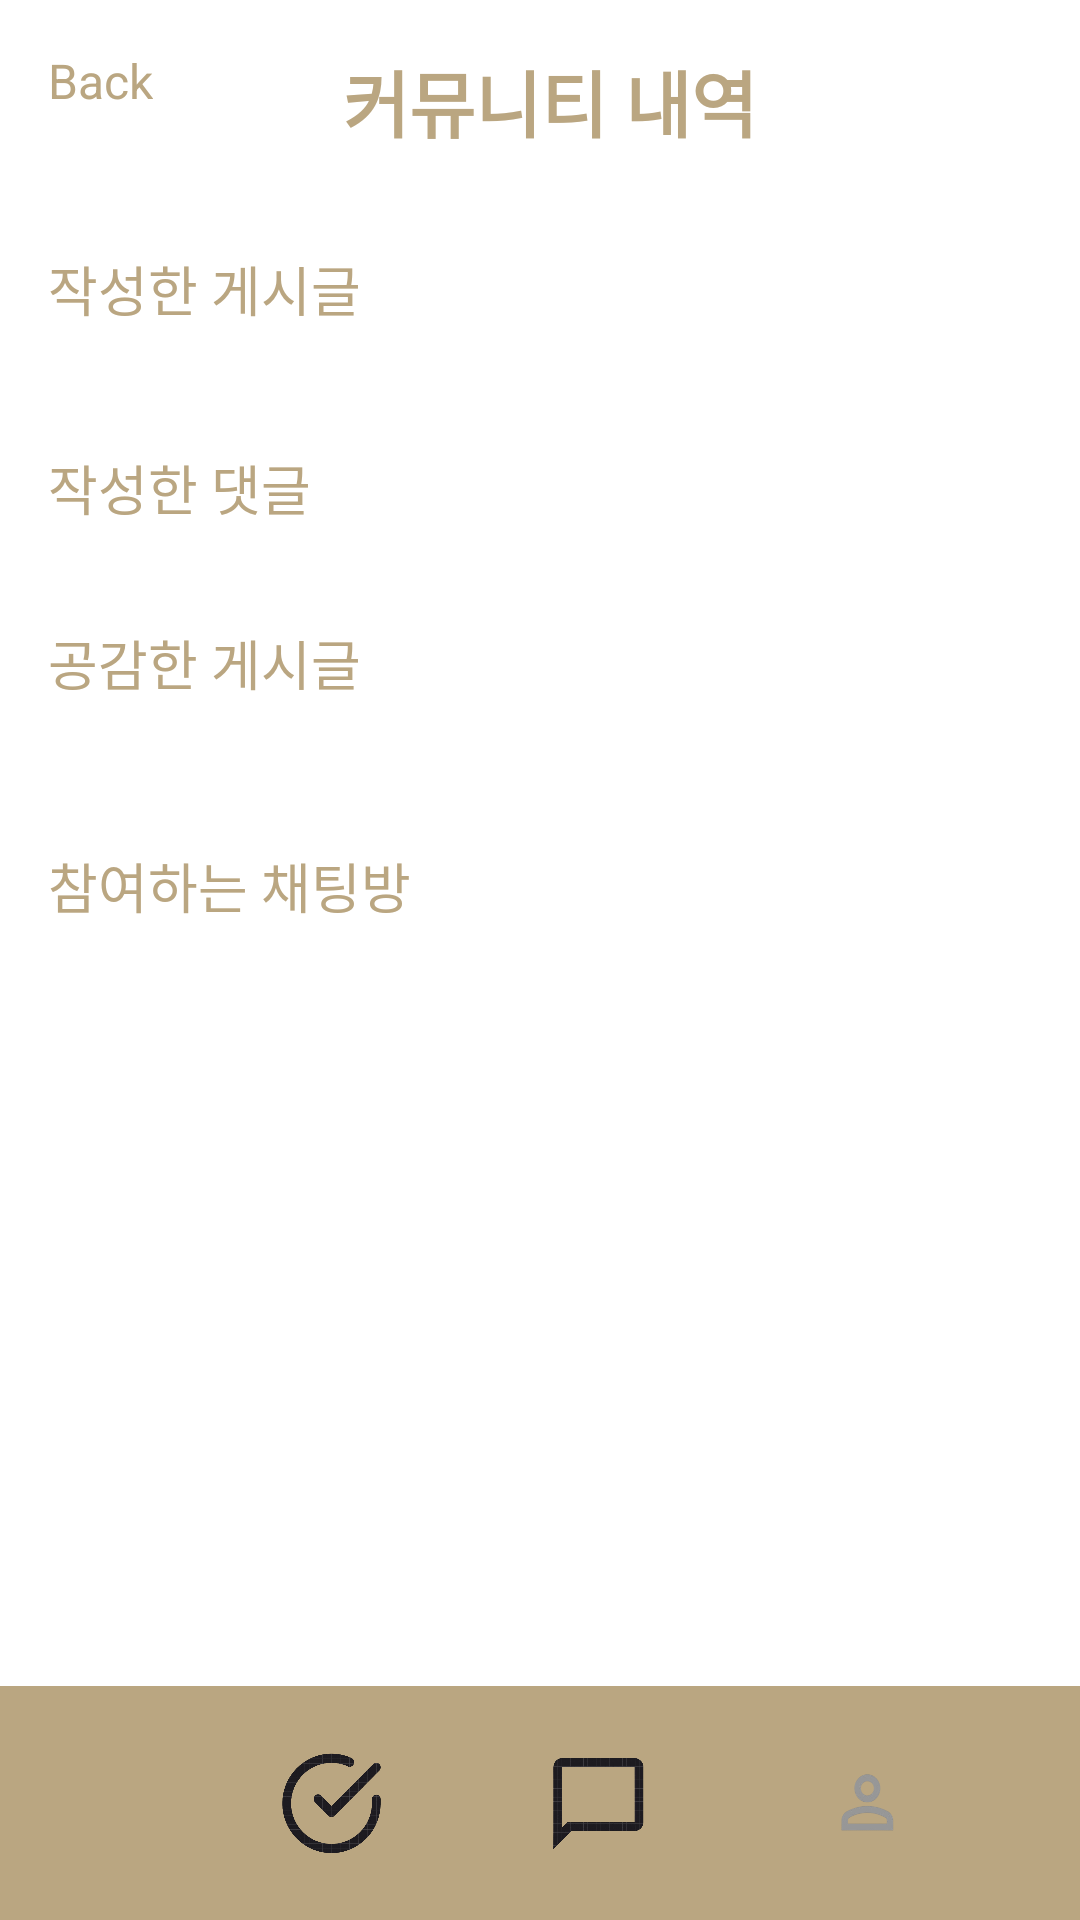

Point at icon controls on the screen. Image size 1080 x 1920, points as (x=x, y=y).
chat: (x=598, y=1803)
check: (x=331, y=1803)
mypage: (x=867, y=1802)
